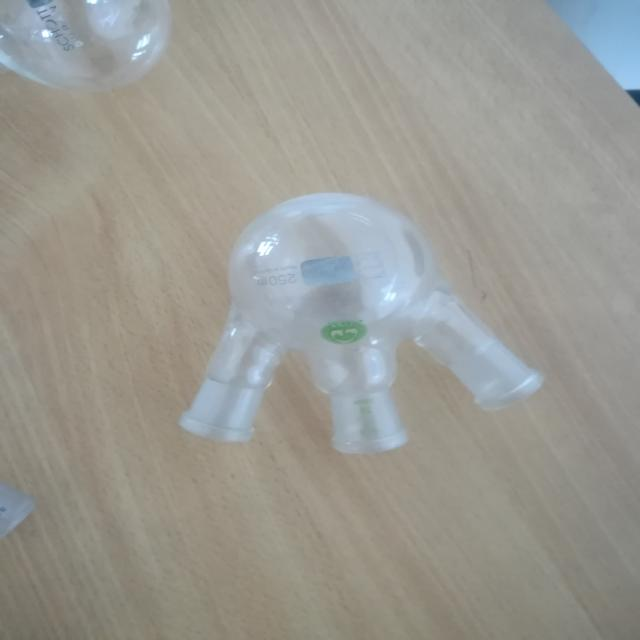Round_Bottom_Flask_Borosilicate_Glass_3_Neck: (145, 150, 569, 501)
